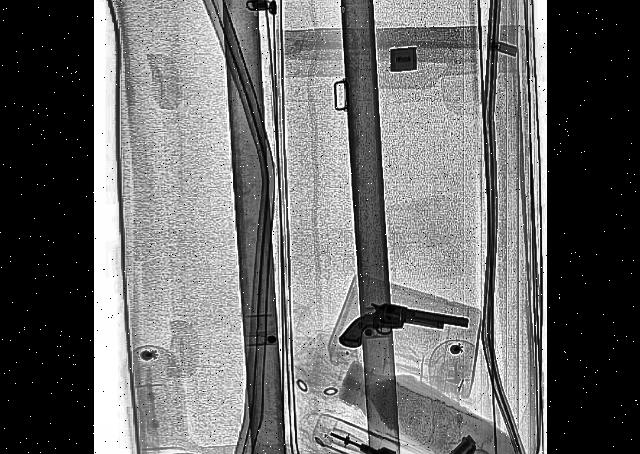Gun: (337, 286, 468, 360), (326, 424, 444, 454), (402, 427, 505, 454)
